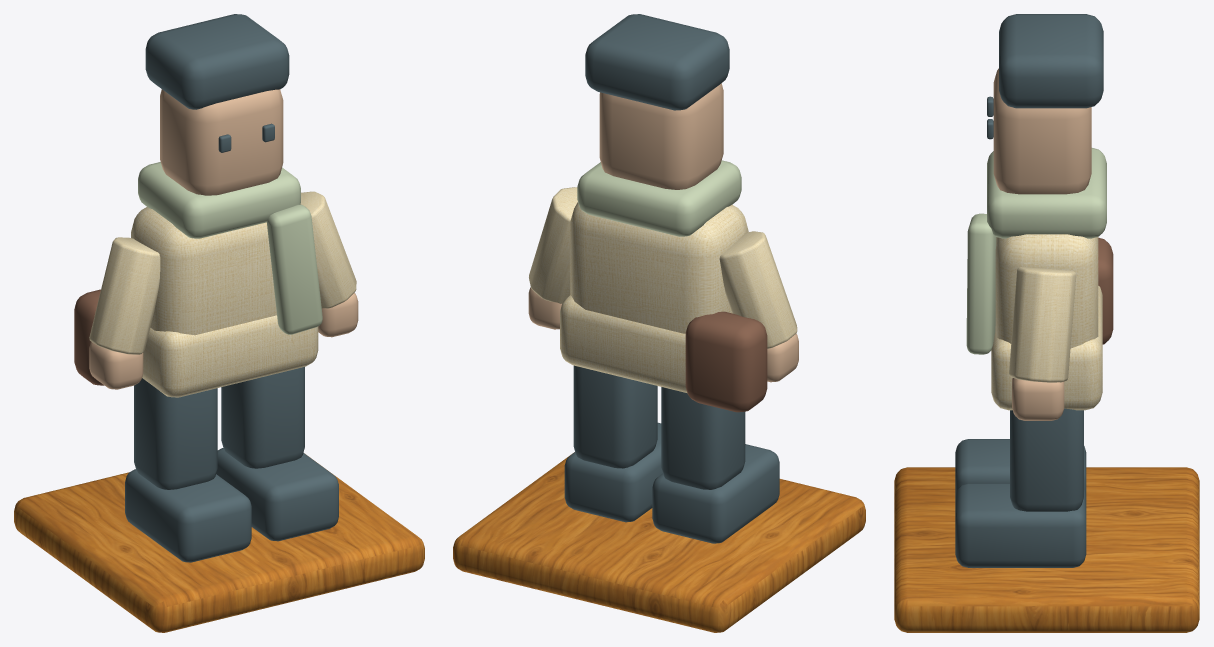
File: adventurer-figurine.glb
The picture shows the model from 3 angles, left to right: view 1: azimuth 30°, elevation 25°; view 2: azimuth 150°, elevation 25°; view 3: azimuth 270°, elevation 25°; orthographic projection. The views are drawn at different scales.
Visible parts, largest first — view 1: adventurer-figurine; view 2: adventurer-figurine; view 3: adventurer-figurine.
Part boxes in pixels (left/top/right/bottom): adventurer-figurine: left=14, top=14, right=424, bottom=632; adventurer-figurine: left=453, top=14, right=865, bottom=632; adventurer-figurine: left=894, top=14, right=1199, bottom=632.
Bounding box in the file's own units: 0.15 × 0.27 × 0.14.
Materials: 6 (2 with a texture image).
